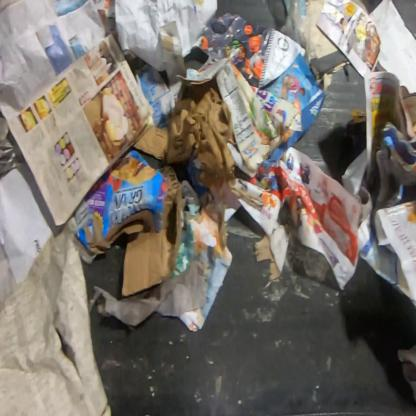cardboard: (66, 147, 181, 296), (132, 83, 235, 187)
soft_plastic: (279, 2, 317, 69)
